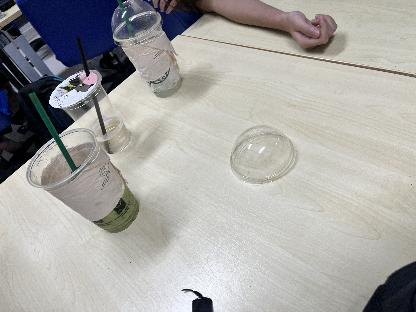Plastic Cup: (23, 128, 140, 234), (46, 68, 134, 156), (110, 11, 190, 100), (109, 0, 163, 44)
